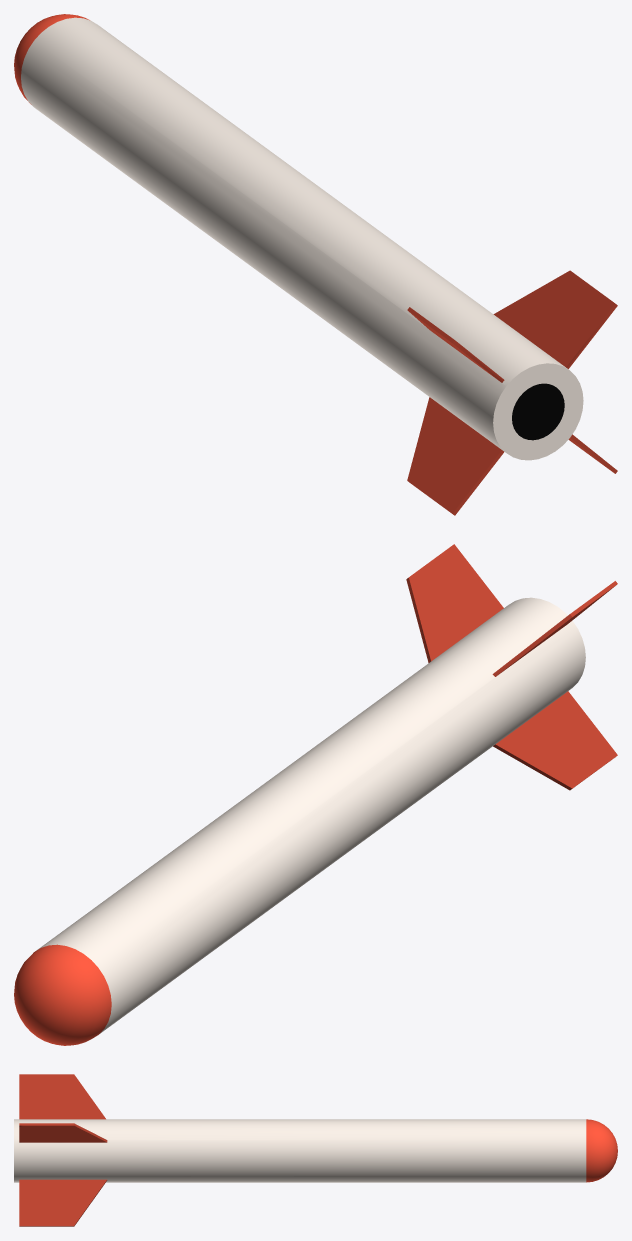
Rendered from missile.obj.
3 views of the same model, one above another, from view 1: azimuth 30°, elevation 25°; view 2: azimuth 150°, elevation 25°; view 3: azimuth 270°, elevation 25° (orthographic). The views are drawn at different scales.
Visible parts, largest first — view 1: 球; view 2: 球; view 3: 球.
Part boxes in pixels (<box>): 球: <box>14,14,617,515</box>; 球: <box>14,544,617,1045</box>; 球: <box>14,1074,617,1226</box>.
Size of the model in its own units: 0.7175 by 0.7283 by 3.74.
Materials: 1 (1 with a texture image).
